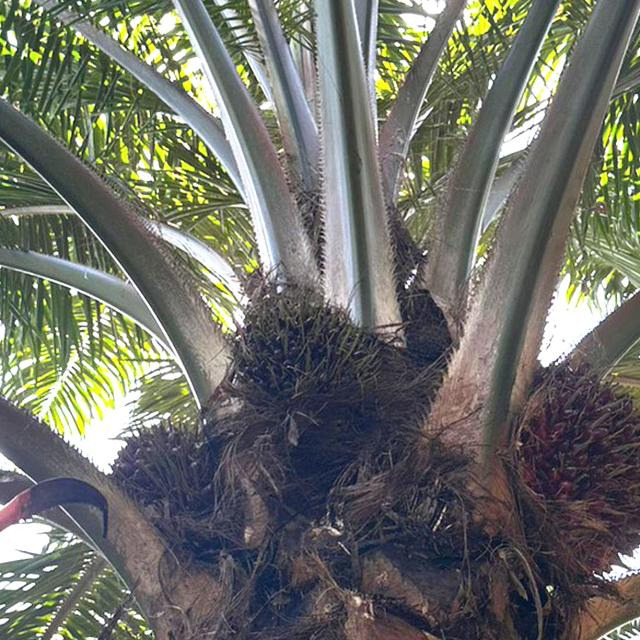unripe: (499, 352, 640, 588), (222, 270, 373, 458), (95, 398, 242, 558)
